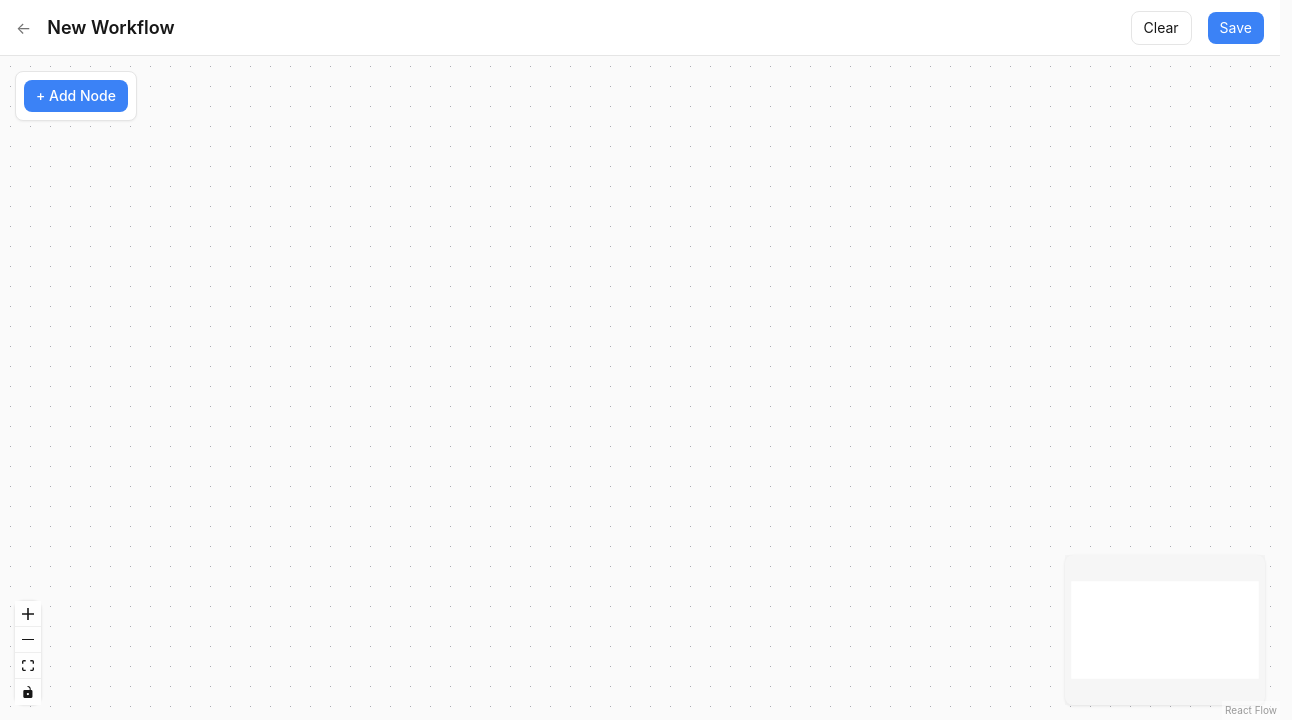
Test: WorkflowCreatePage › should close add panel after adding agent
Click the button "+ Add Node" at (76, 96), box x1=24 y1=80 x2=128 y2=112
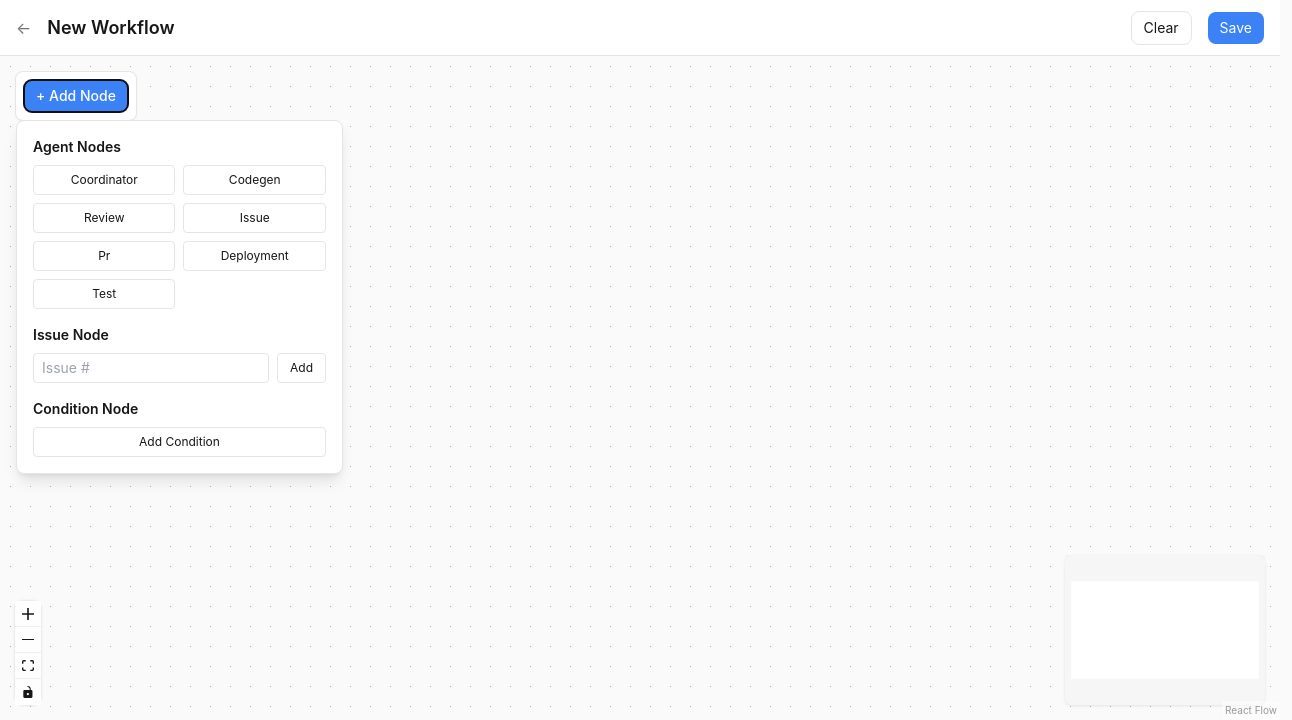
Result: the heading "Agent Nodes" is shown at x1=33 y1=138 x2=121 y2=155
Click the button "coordinator" at (104, 180), box x1=33 y1=165 x2=176 y2=195
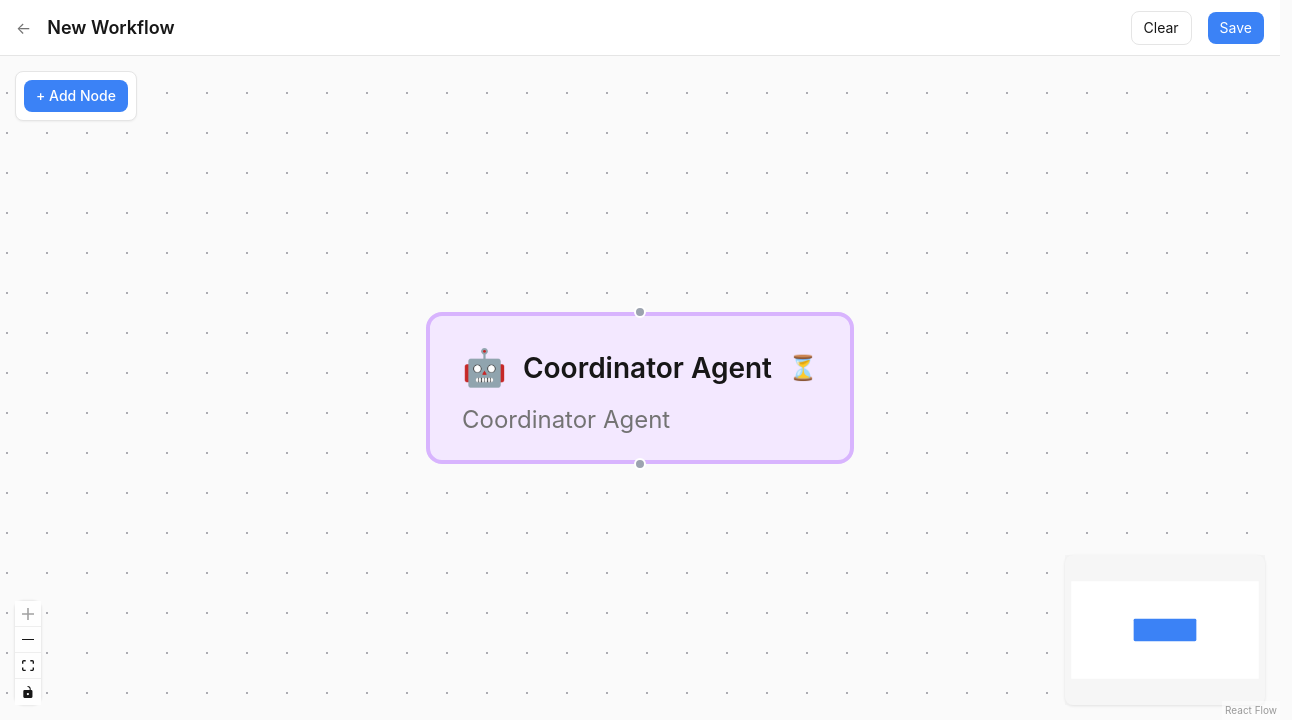
Result: the heading "Agent Nodes" is gone
